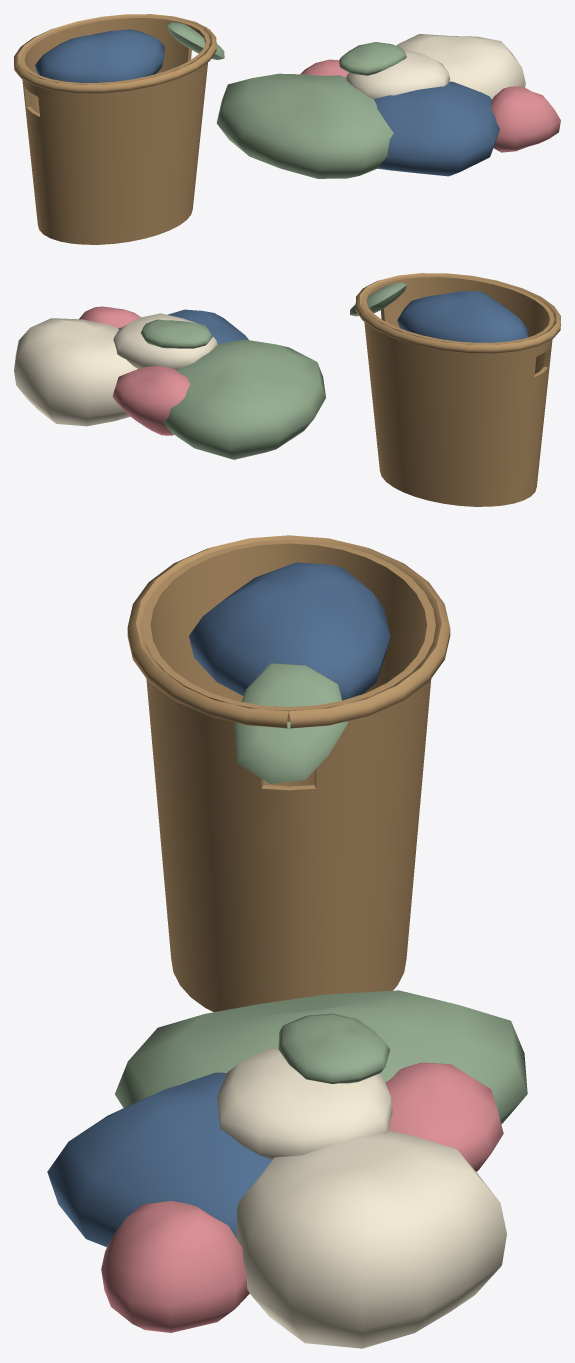
The model's file is laundry_pile.glb.
3 views of the same model, one above another, from view 1: azimuth 30°, elevation 25°; view 2: azimuth 150°, elevation 25°; view 3: azimuth 270°, elevation 25° (orthographic). The views are drawn at different scales.
Visible parts, largest first — view 1: basket, heap; view 2: basket, heap; view 3: heap, basket.
Part boxes in pixels (x1=…): basket: x1=14, y1=14, x2=224, y2=244; heap: x1=216, y1=34, x2=560, y2=178; basket: x1=350, y1=273, x2=560, y2=506; heap: x1=14, y1=306, x2=325, y2=459; heap: x1=47, y1=990, x2=527, y2=1348; basket: x1=127, y1=535, x2=450, y2=1011.
Size of the model in its own units: 1.61 by 0.5442 by 0.6529.
